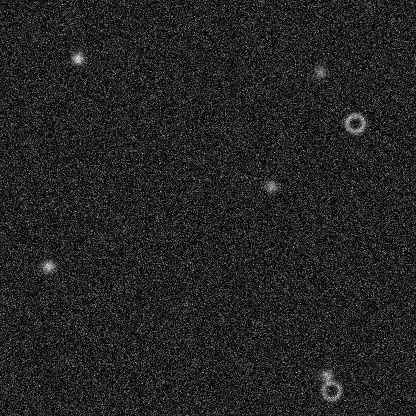Ring: (319, 378, 343, 402), (343, 111, 367, 135)
Spot: (312, 64, 328, 80), (40, 258, 56, 274), (69, 50, 85, 66), (263, 178, 279, 194), (318, 367, 334, 383)
